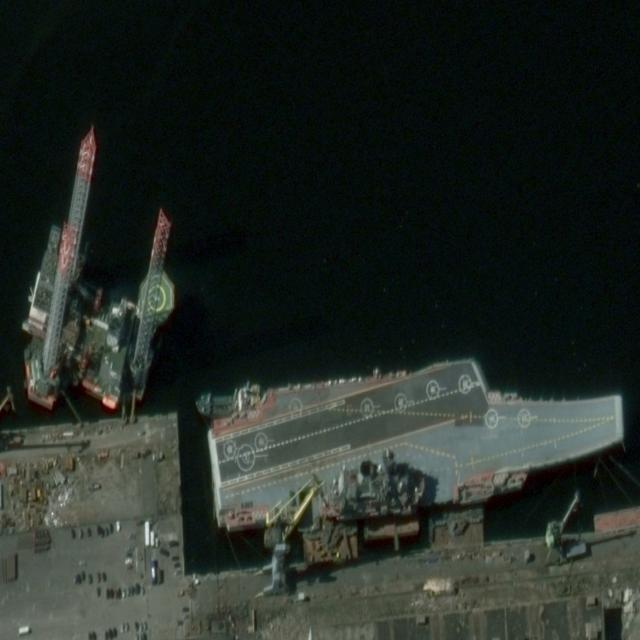Aircraft Carrier: (206, 337, 628, 540)
